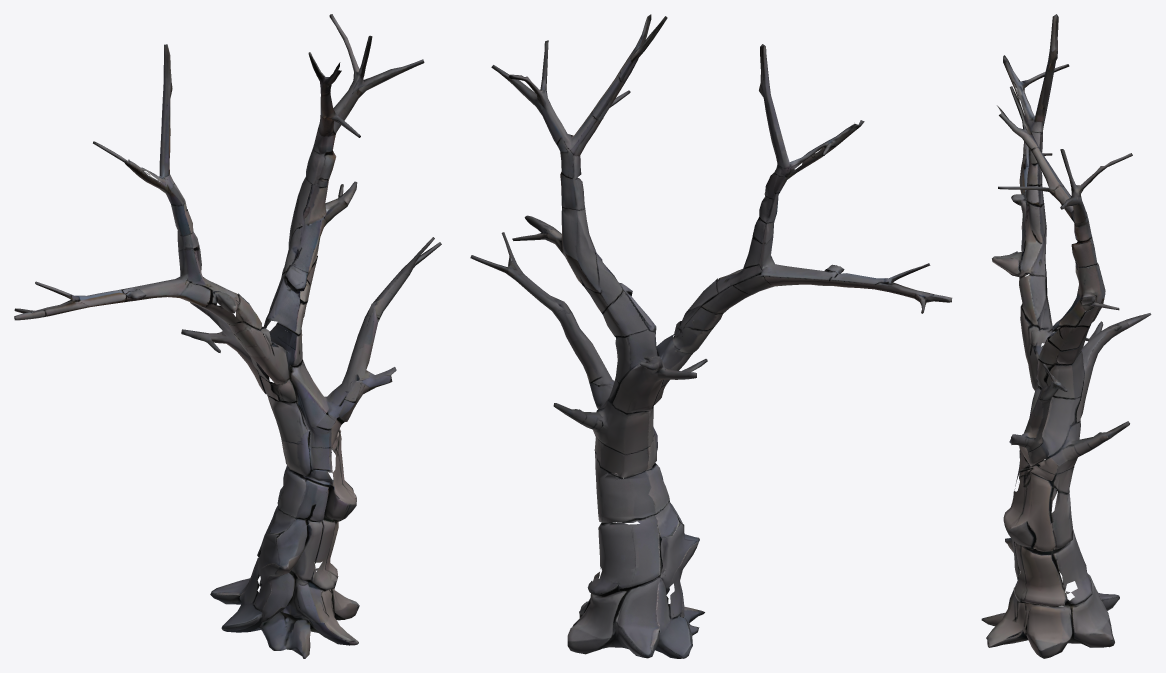
The model's file is dead tree 3d model.glb.
The picture shows the model from 3 angles, left to right: view 1: azimuth 30°, elevation 25°; view 2: azimuth 150°, elevation 25°; view 3: azimuth 270°, elevation 25°; orthographic projection. The views are drawn at different scales.
Parts seen in each view (by area): view 1: tripo_node_ff1704c1; view 2: tripo_node_ff1704c1; view 3: tripo_node_ff1704c1.
Boxes of the visible parts, x1=… form: tripo_node_ff1704c1: x1=14, y1=14, x2=441, y2=658; tripo_node_ff1704c1: x1=470, y1=14, x2=952, y2=658; tripo_node_ff1704c1: x1=981, y1=14, x2=1151, y2=658.
Size of the model in its own units: 74.99 by 97.68 by 26.7.
Materials: 1 (1 with a texture image).
